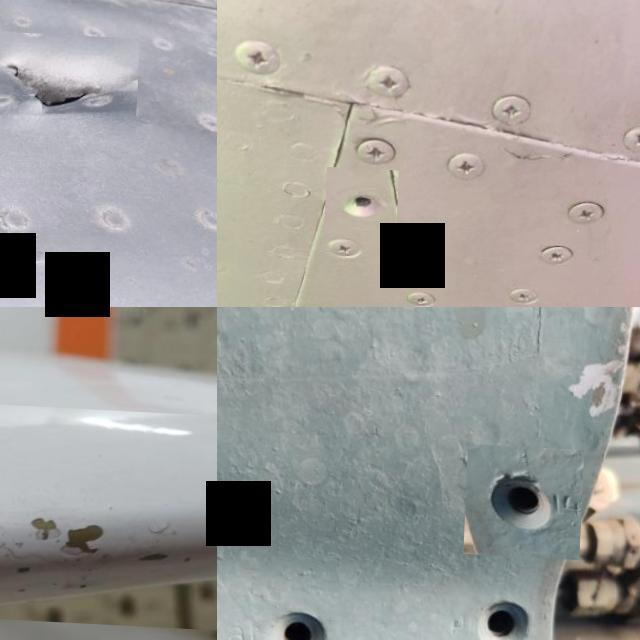Crack: (0, 400, 217, 638), (0, 27, 142, 135)
Missing_Fastener: (466, 440, 586, 555), (437, 564, 561, 640), (243, 575, 364, 640), (328, 165, 402, 235)
